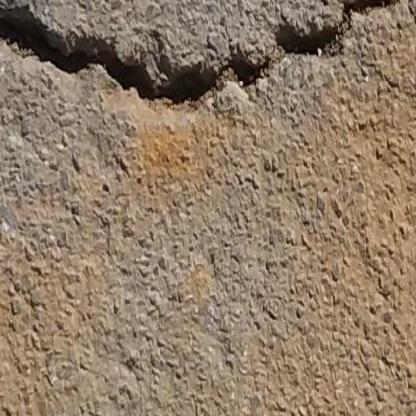Cracks: (0, 0, 416, 117)
